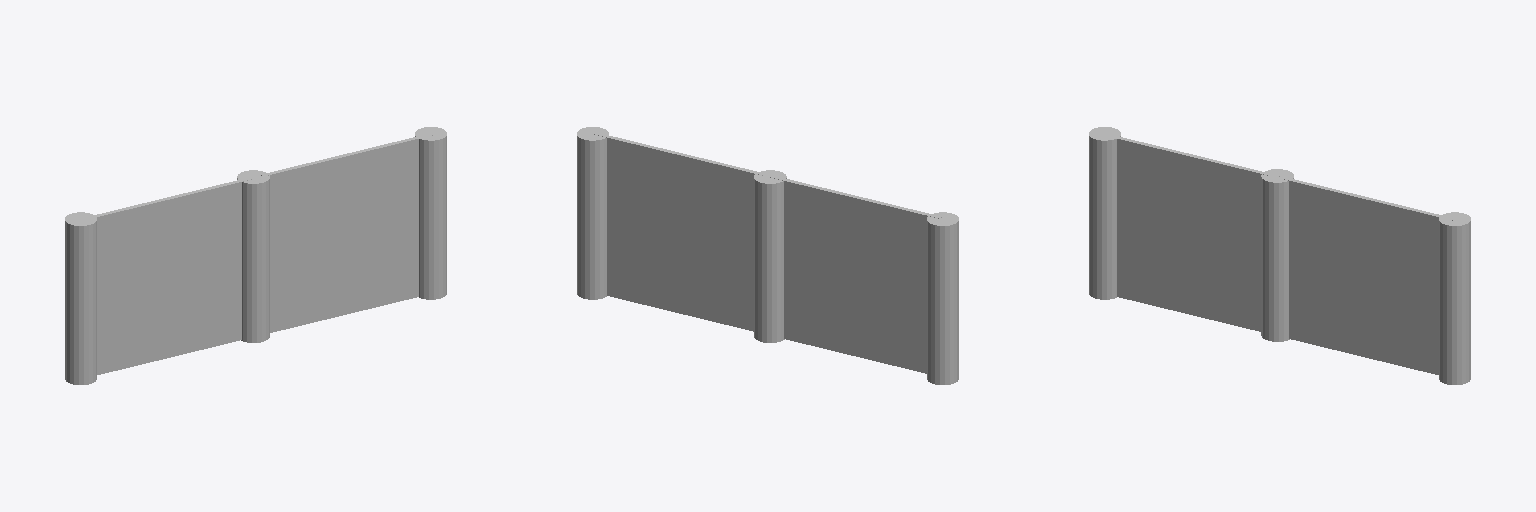
Rendered from walldouble.obj.
The picture shows the model from 3 angles: view 1: azimuth 30°, elevation 25°; view 2: azimuth 150°, elevation 25°; view 3: azimuth 330°, elevation 25°; orthographic projection.
Visible parts, largest first — view 1: polySurface7; view 2: polySurface7; view 3: polySurface7.
Part boxes in pixels (x1,y1,x2,y2): polySurface7: (65, 127, 446, 384); polySurface7: (577, 127, 958, 384); polySurface7: (1089, 127, 1470, 384).
Bounding box in the file's own units: 43.62 × 17.55 × 3.28.